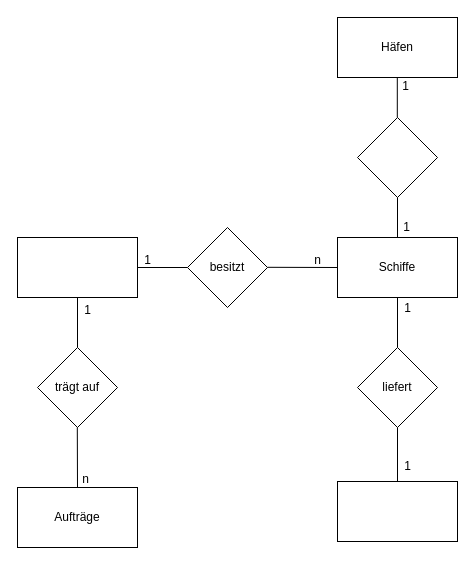
Image size: 475x565. Some labels were removed from this diagram. The shapes that lost their labels are listed below. From the top down, each one's centre as x and y in pixels, then its label:
the point at 397,157: besucht
the point at 77,267: Company
the point at 397,511: Cargo
